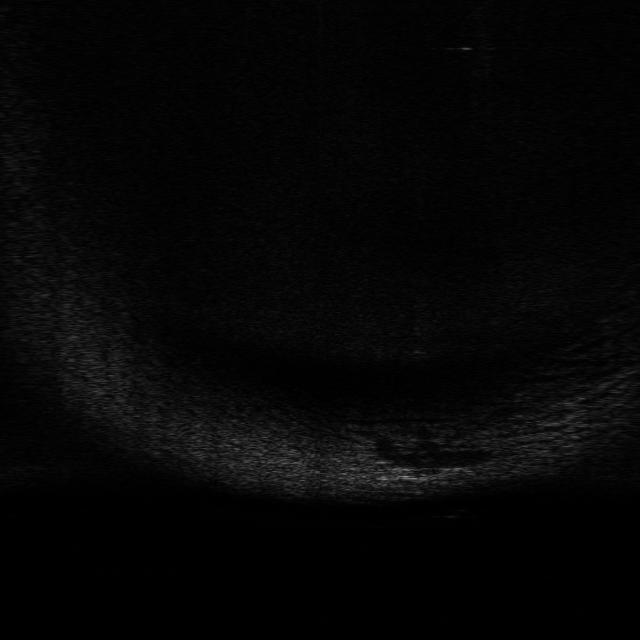plane: (378, 458, 471, 485)
